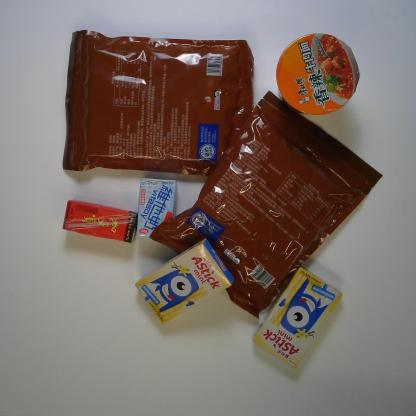Dessert: (251, 266, 344, 371), (134, 238, 235, 326)
Dried Food: (147, 90, 384, 321), (61, 29, 255, 178)
Drink: (61, 199, 138, 244)
Instant Noodles: (275, 32, 360, 116)
Milk: (135, 177, 178, 238)
